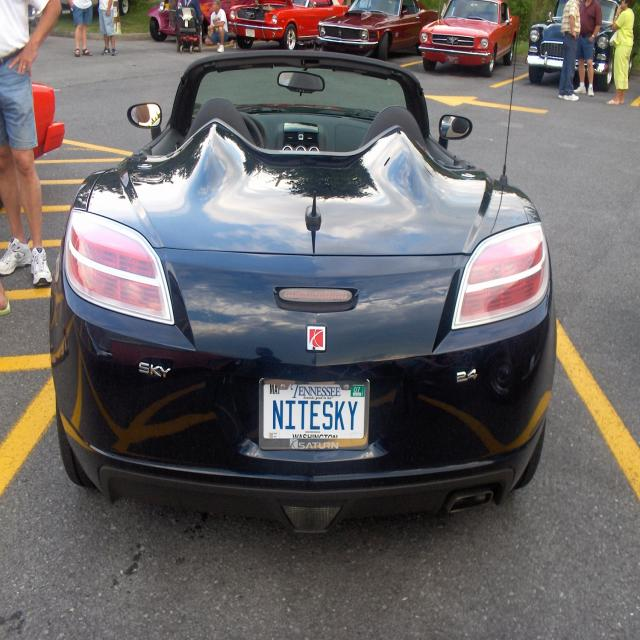Number-Plate: (271, 396, 361, 437)
